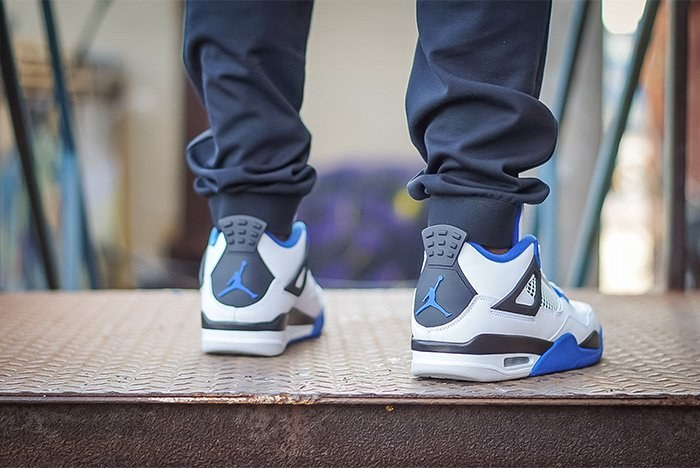Air Jordan 4 Motorsport: (397, 208, 614, 425), (177, 206, 340, 369)
